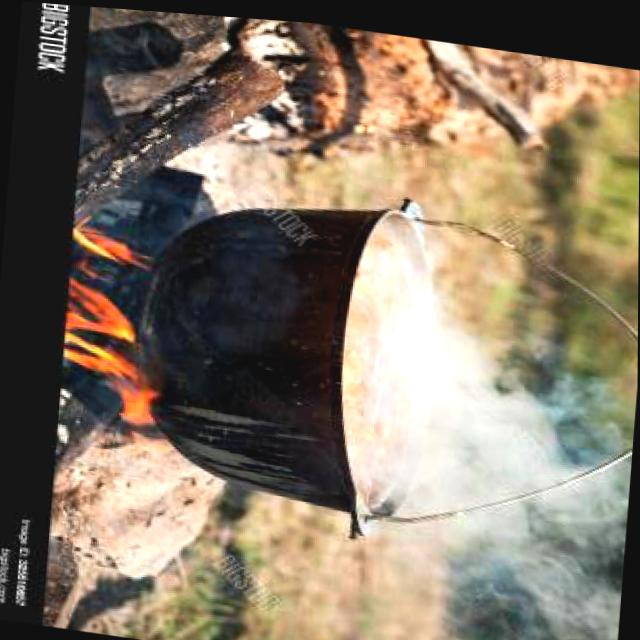helmet: (59, 215, 172, 427)
no_helmet: (331, 225, 639, 640)
